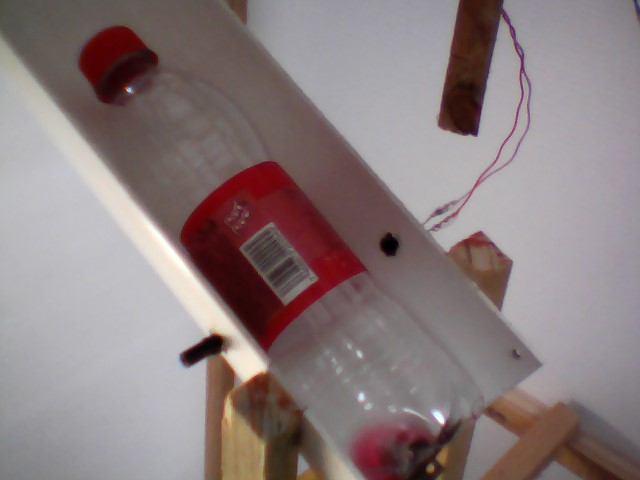plastico: (77, 10, 492, 480)
